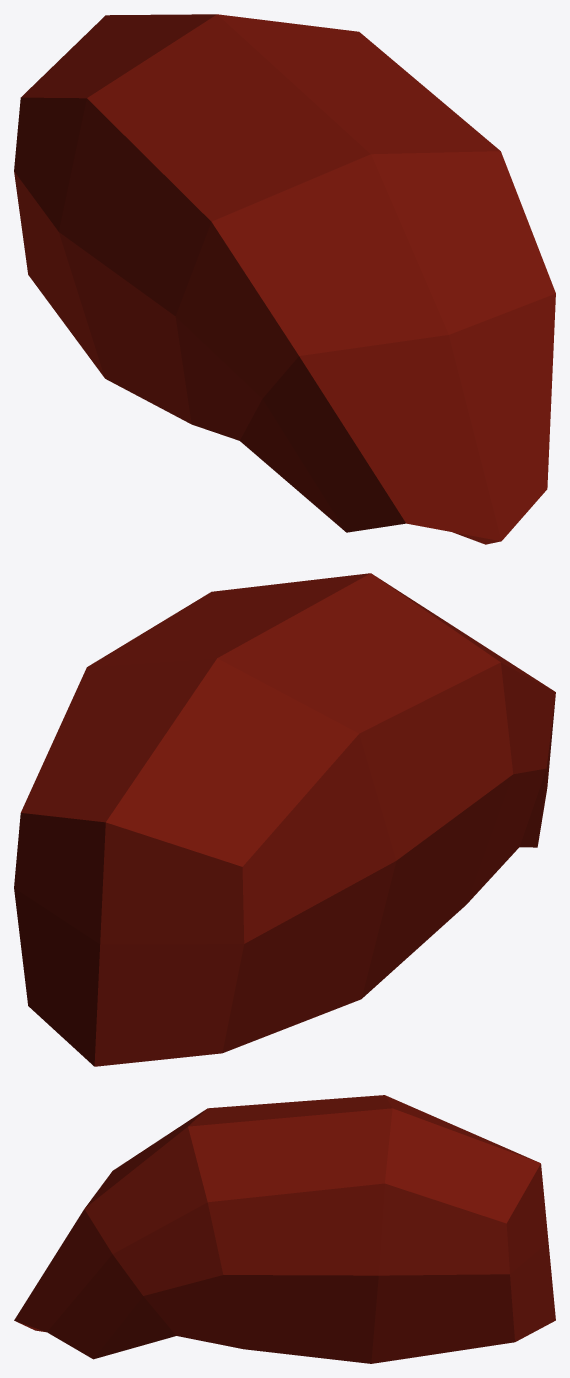
Rendered from enemy_1.glb.
The picture shows the model from 3 angles, top to bottom: view 1: azimuth 30°, elevation 25°; view 2: azimuth 150°, elevation 25°; view 3: azimuth 270°, elevation 25°; orthographic projection. The views are drawn at different scales.
Visible parts, largest first — view 1: Cube; view 2: Cube; view 3: Cube.
Boxes of the visible parts, x1,y1,x2,y2 form: Cube: (14,14,555,544); Cube: (14,573,555,1066); Cube: (14,1095,555,1363).
Size of the model in its own units: 2.01 by 2.04 by 4.2.
